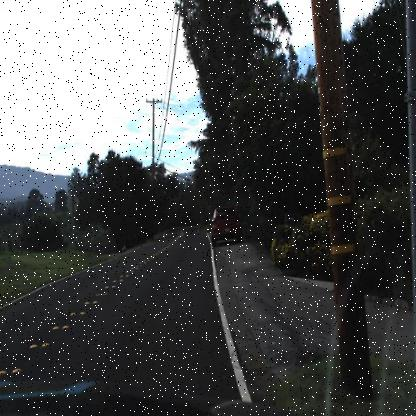car: (208, 204, 245, 251)
